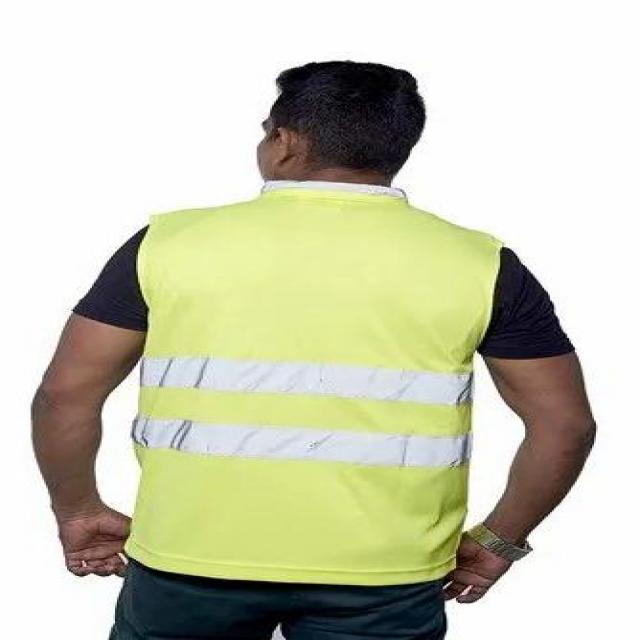Reflective-Jacket: (106, 183, 520, 582)
